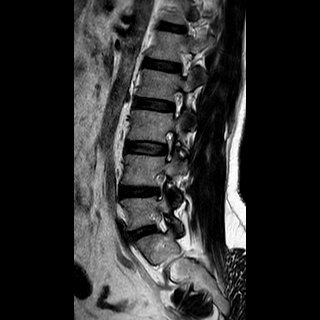LFS0: (166, 86, 190, 123), (157, 126, 179, 166)
LFS1: (147, 167, 172, 201)
